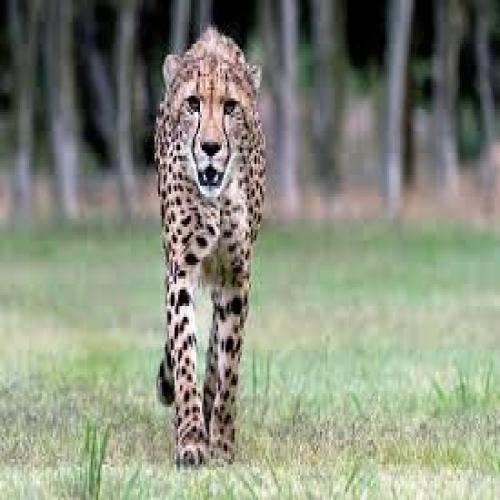cheetah-endangered: (153, 28, 266, 471)
